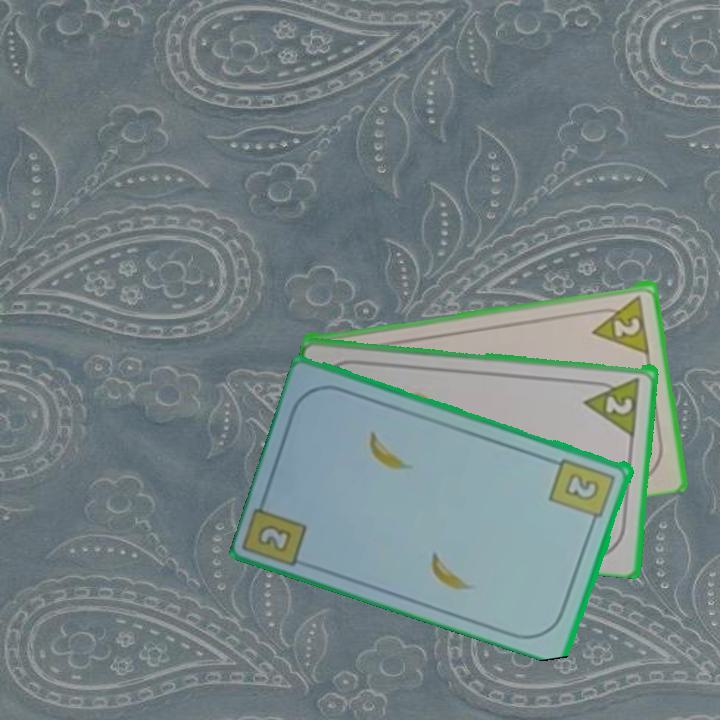2b: (547, 455, 619, 529), (254, 520, 295, 555)
2p: (587, 291, 653, 355), (581, 373, 643, 436)
